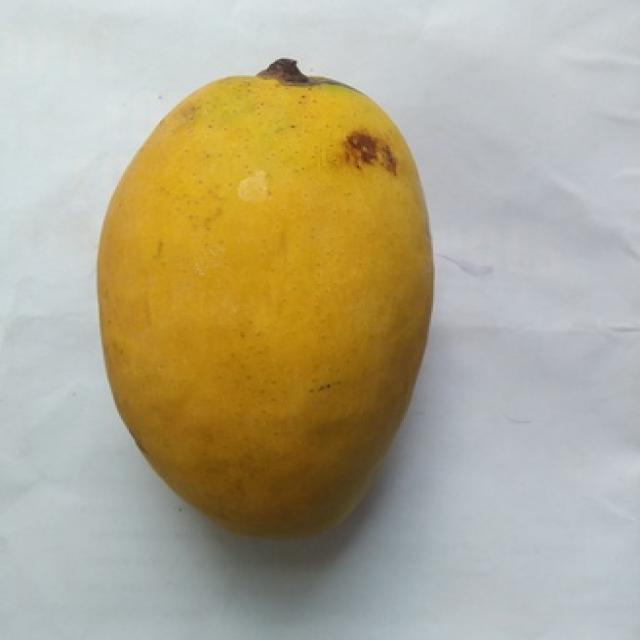Mango: (98, 65, 431, 535)
